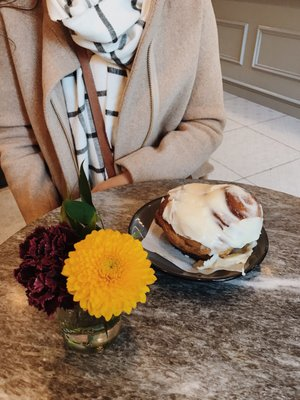curry: (2, 153, 299, 392)
sushi: (154, 182, 266, 269)
